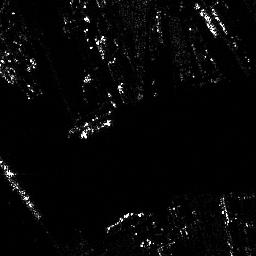ship: (1, 158, 41, 221)
